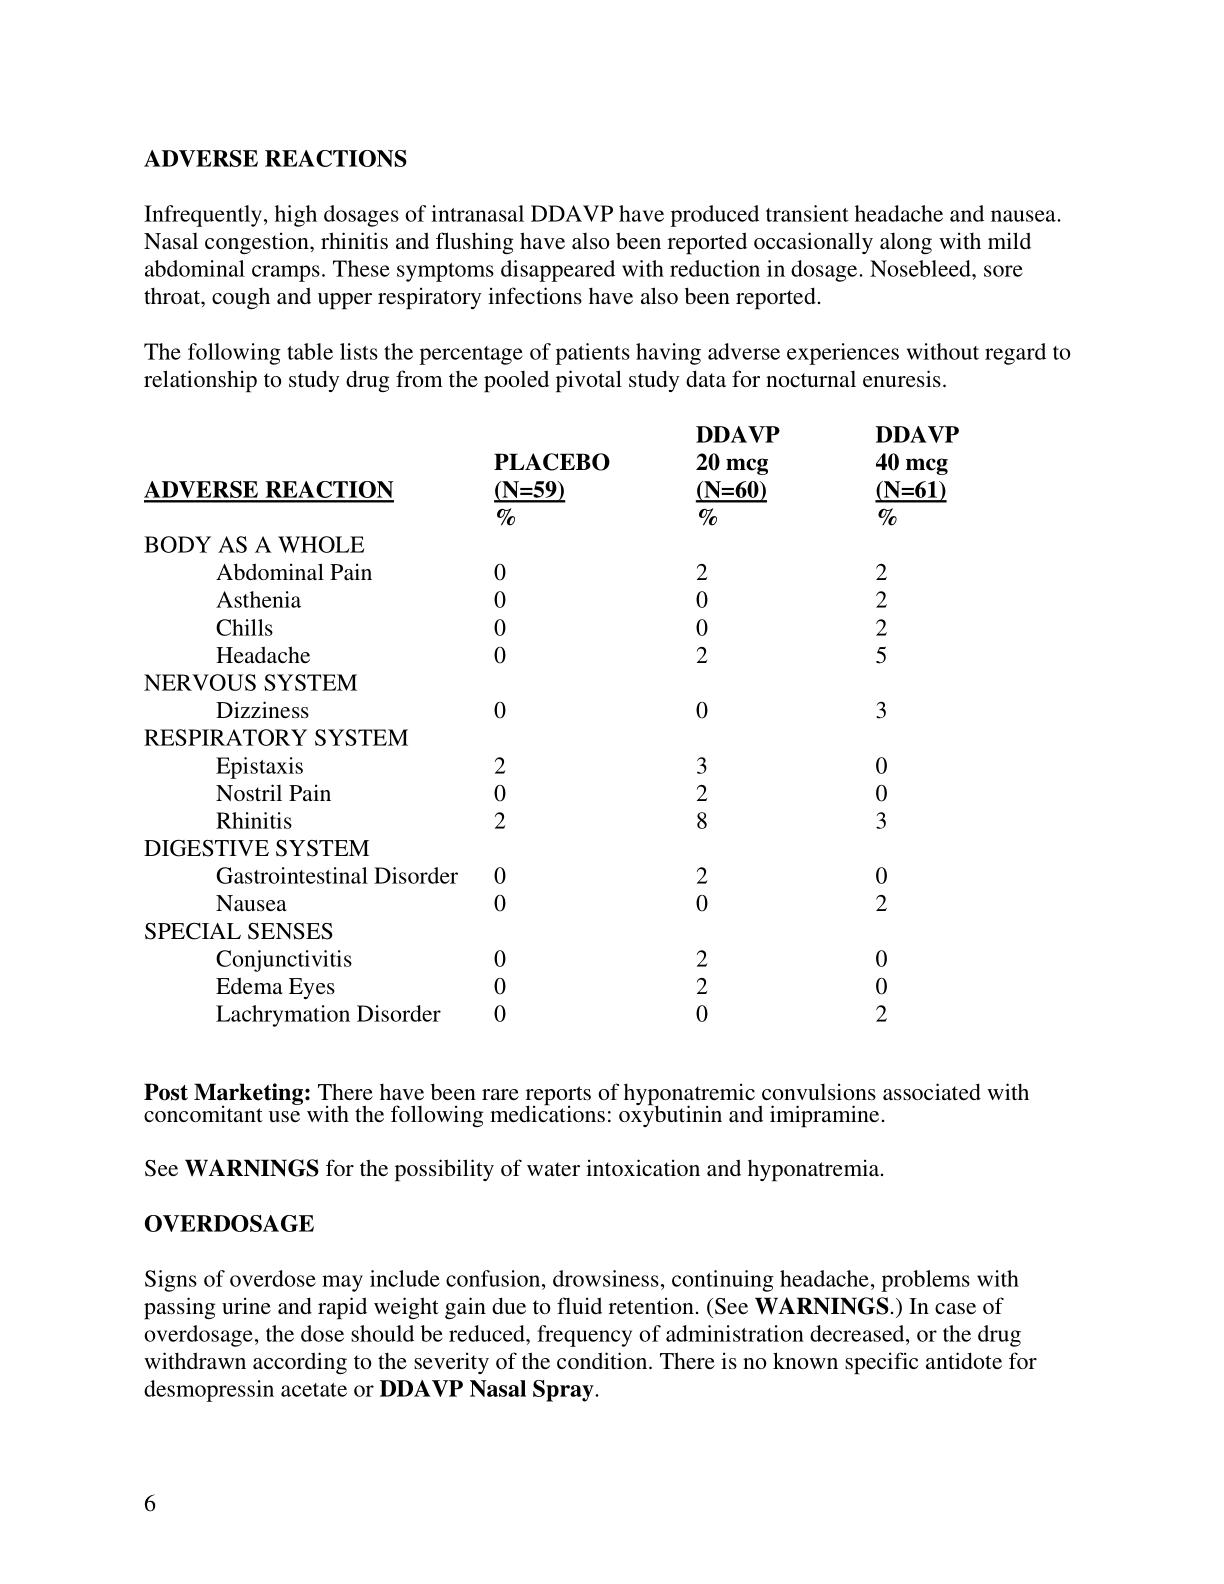nolines: (139, 419, 966, 1031)
